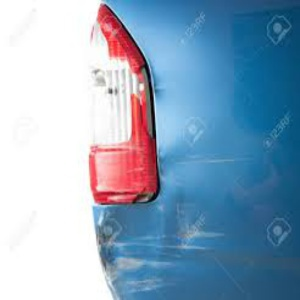bumper_scratch: (97, 212, 228, 295)
